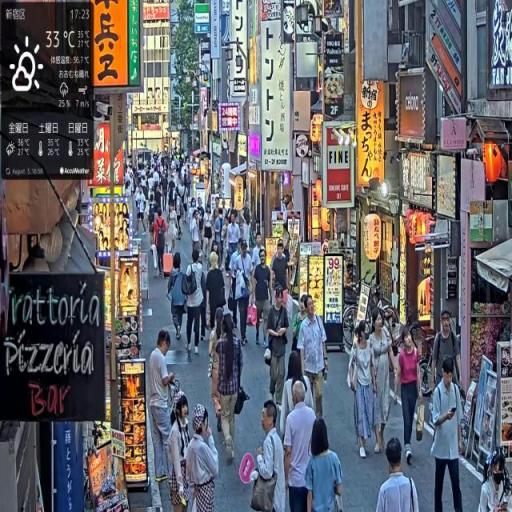person: (149, 327, 182, 512), (211, 309, 247, 470), (430, 356, 466, 512), (244, 397, 288, 512), (283, 380, 320, 512), (368, 311, 398, 456), (297, 294, 330, 421), (349, 322, 379, 460), (306, 416, 347, 512), (395, 325, 422, 467), (186, 403, 220, 512), (377, 437, 419, 512), (266, 286, 291, 410), (184, 246, 209, 359), (170, 396, 194, 512), (430, 310, 461, 394), (231, 239, 254, 349), (252, 248, 275, 351), (479, 452, 512, 512), (167, 253, 188, 344), (207, 252, 227, 341), (271, 239, 291, 306)
